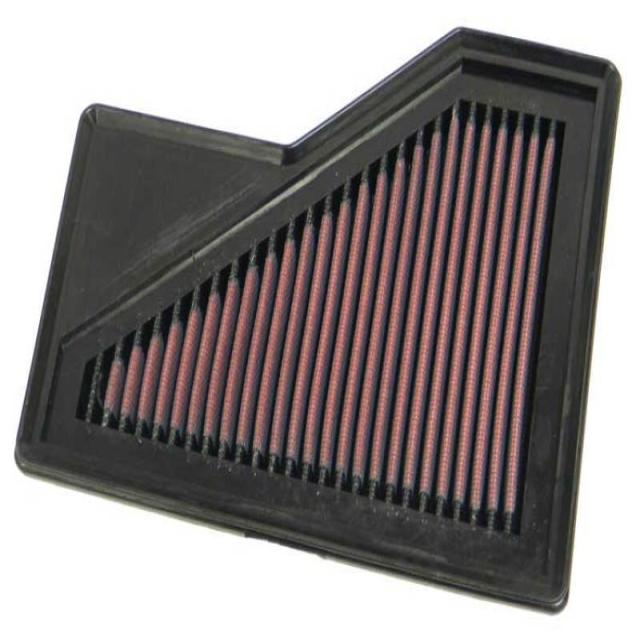air_filter: (24, 24, 624, 574)
